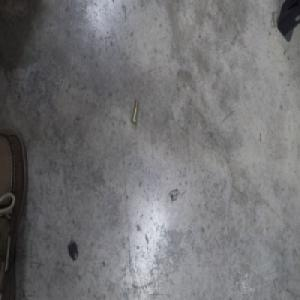Bolt: (129, 98, 139, 126)
